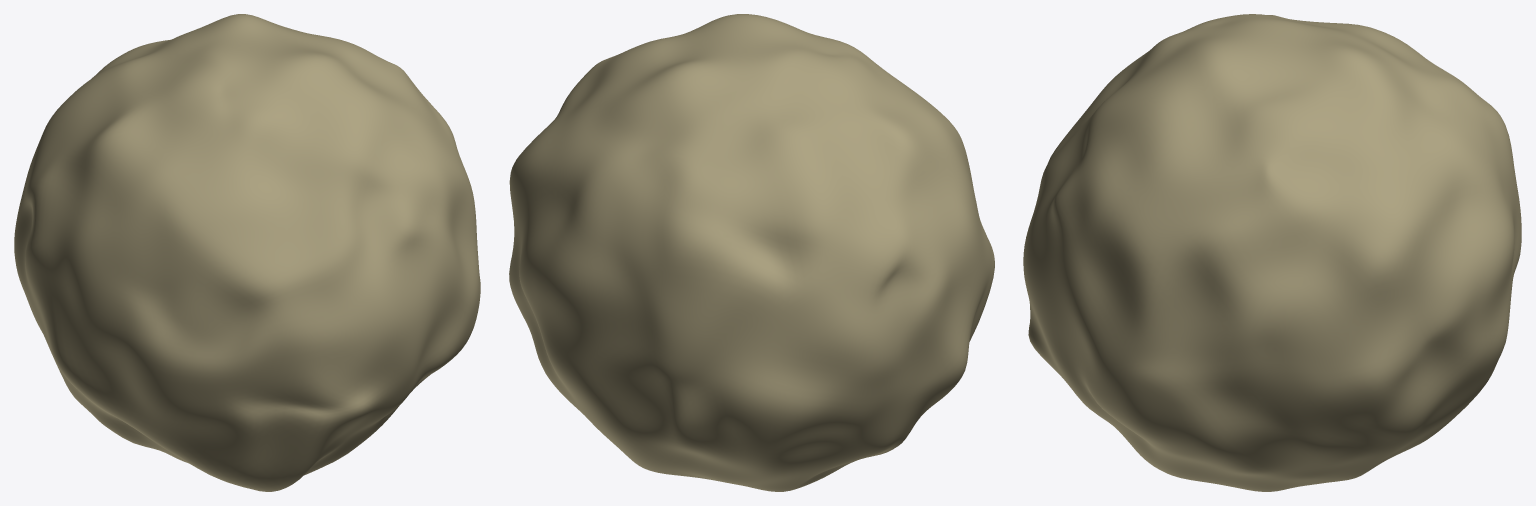
File: boulder.fbx
3 views of the same model, side by side, from view 1: azimuth 30°, elevation 25°; view 2: azimuth 150°, elevation 25°; view 3: azimuth 270°, elevation 25° (orthographic). The views are drawn at different scales.
Visible parts, largest first — view 1: Icosphere; view 2: Icosphere; view 3: Icosphere.
Part boxes in pixels (box(x1,y1,x2,y2)): Icosphere: box(14, 14, 480, 491); Icosphere: box(509, 14, 994, 491); Icosphere: box(1023, 14, 1521, 491).
Size of what is drawn, in the model's own units: 936 by 932 by 953.
